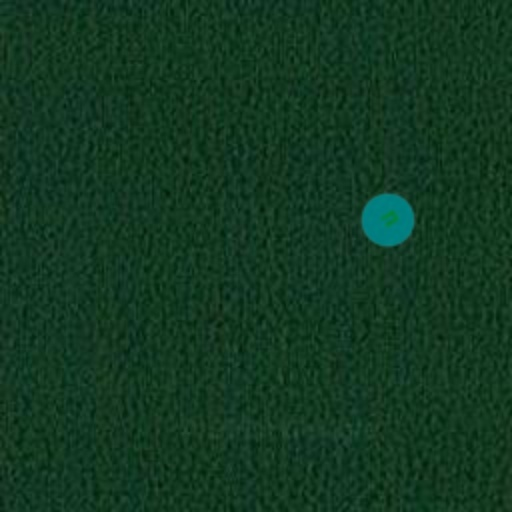circle: (350, 182, 426, 258)
